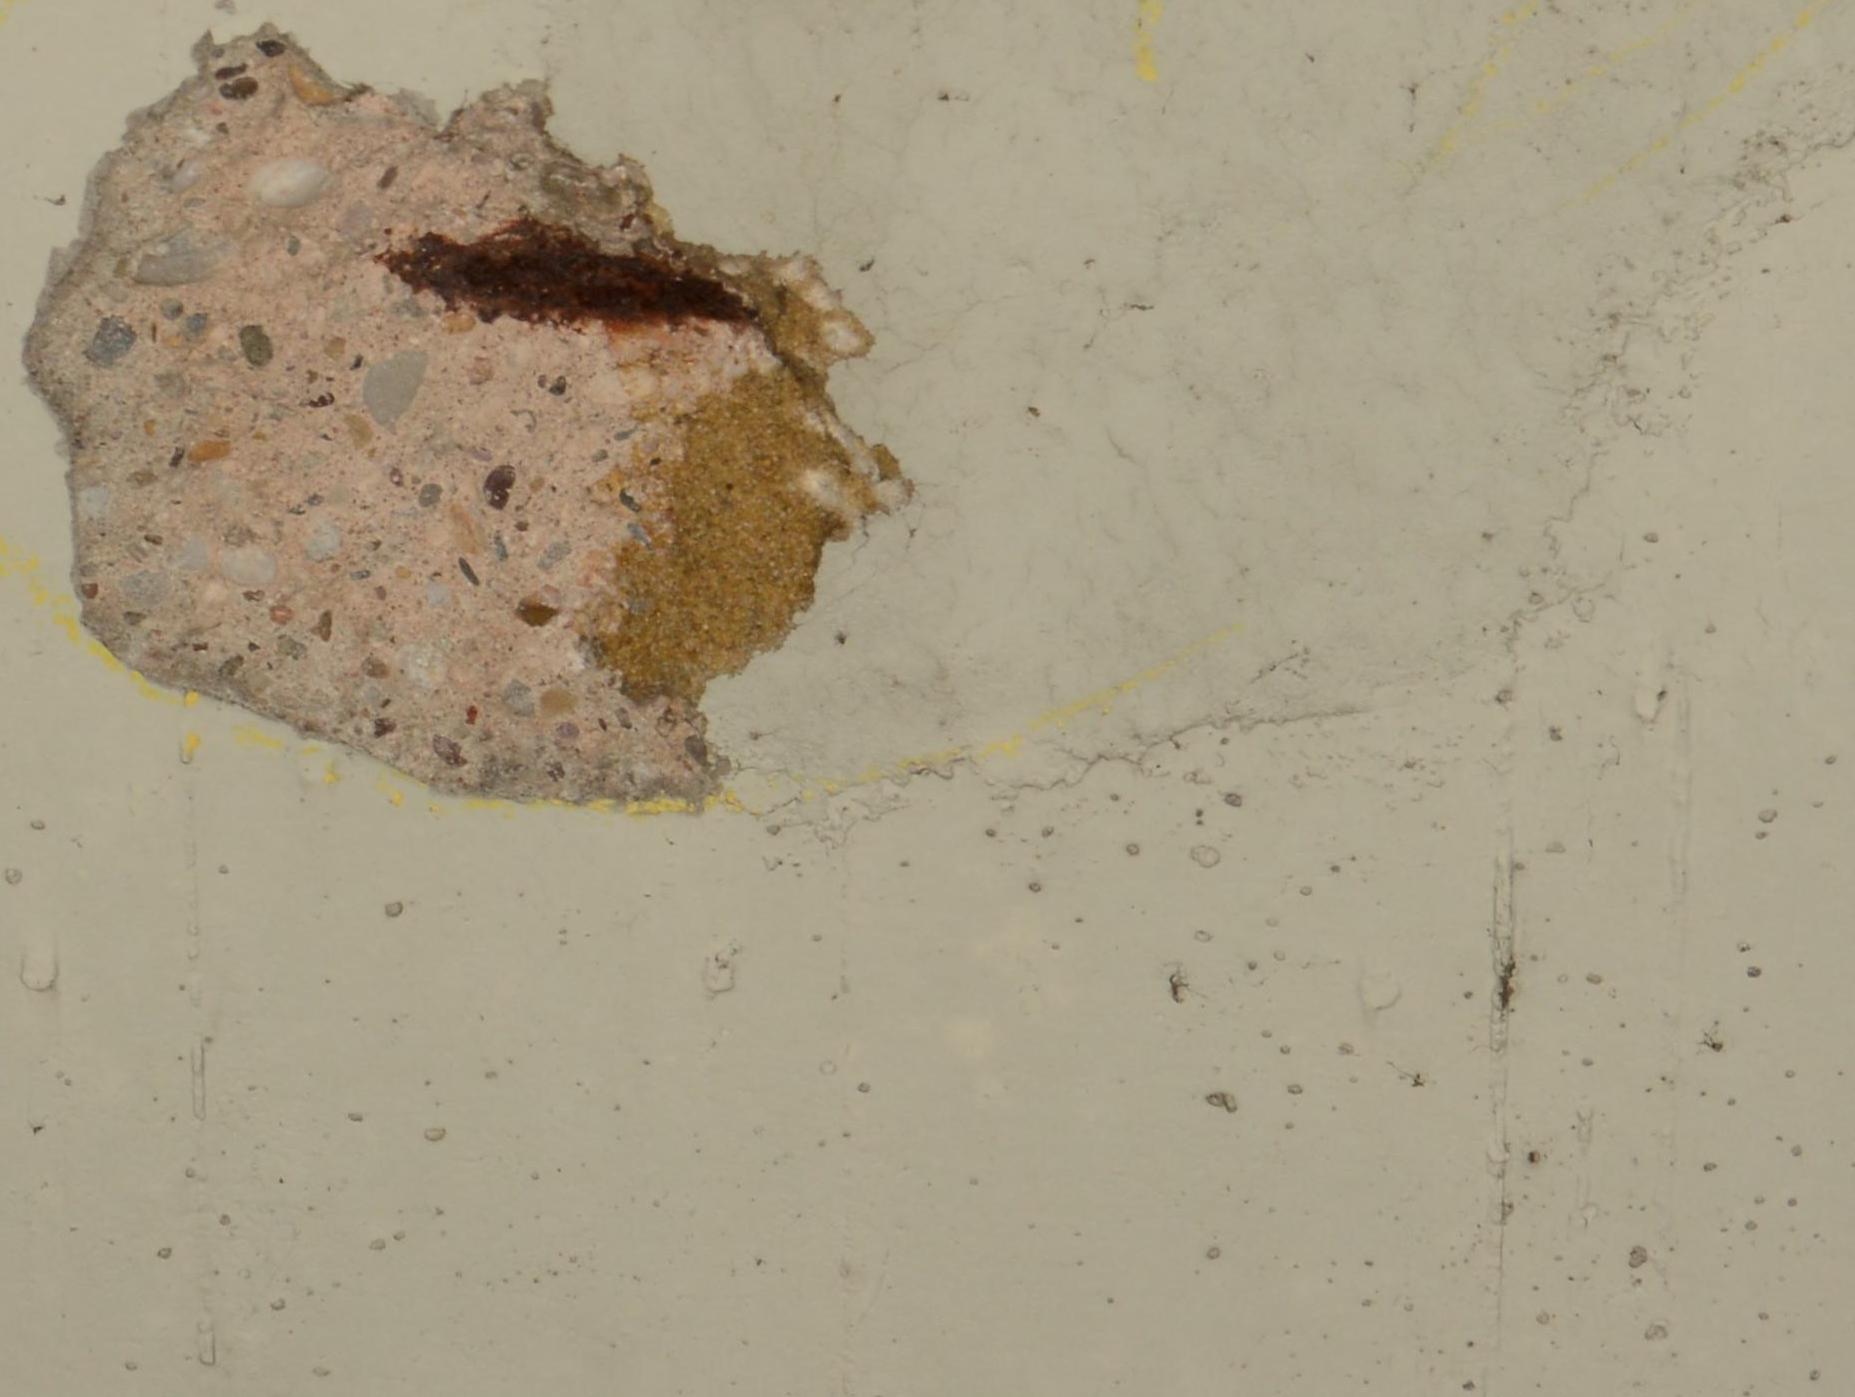Exposed reinforcement: (368, 222, 751, 332)
Spalling: (18, 18, 914, 803)
